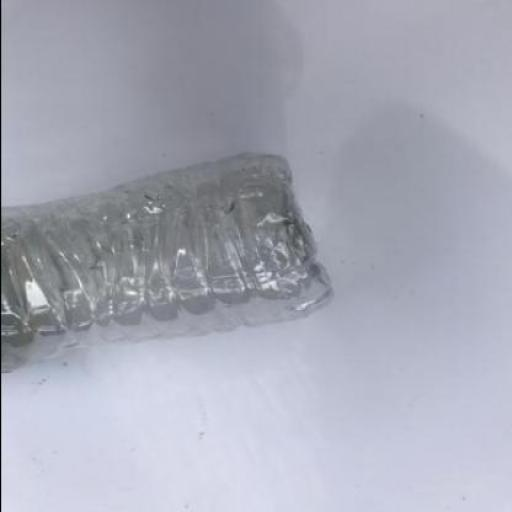plastic: (1, 154, 334, 373)
